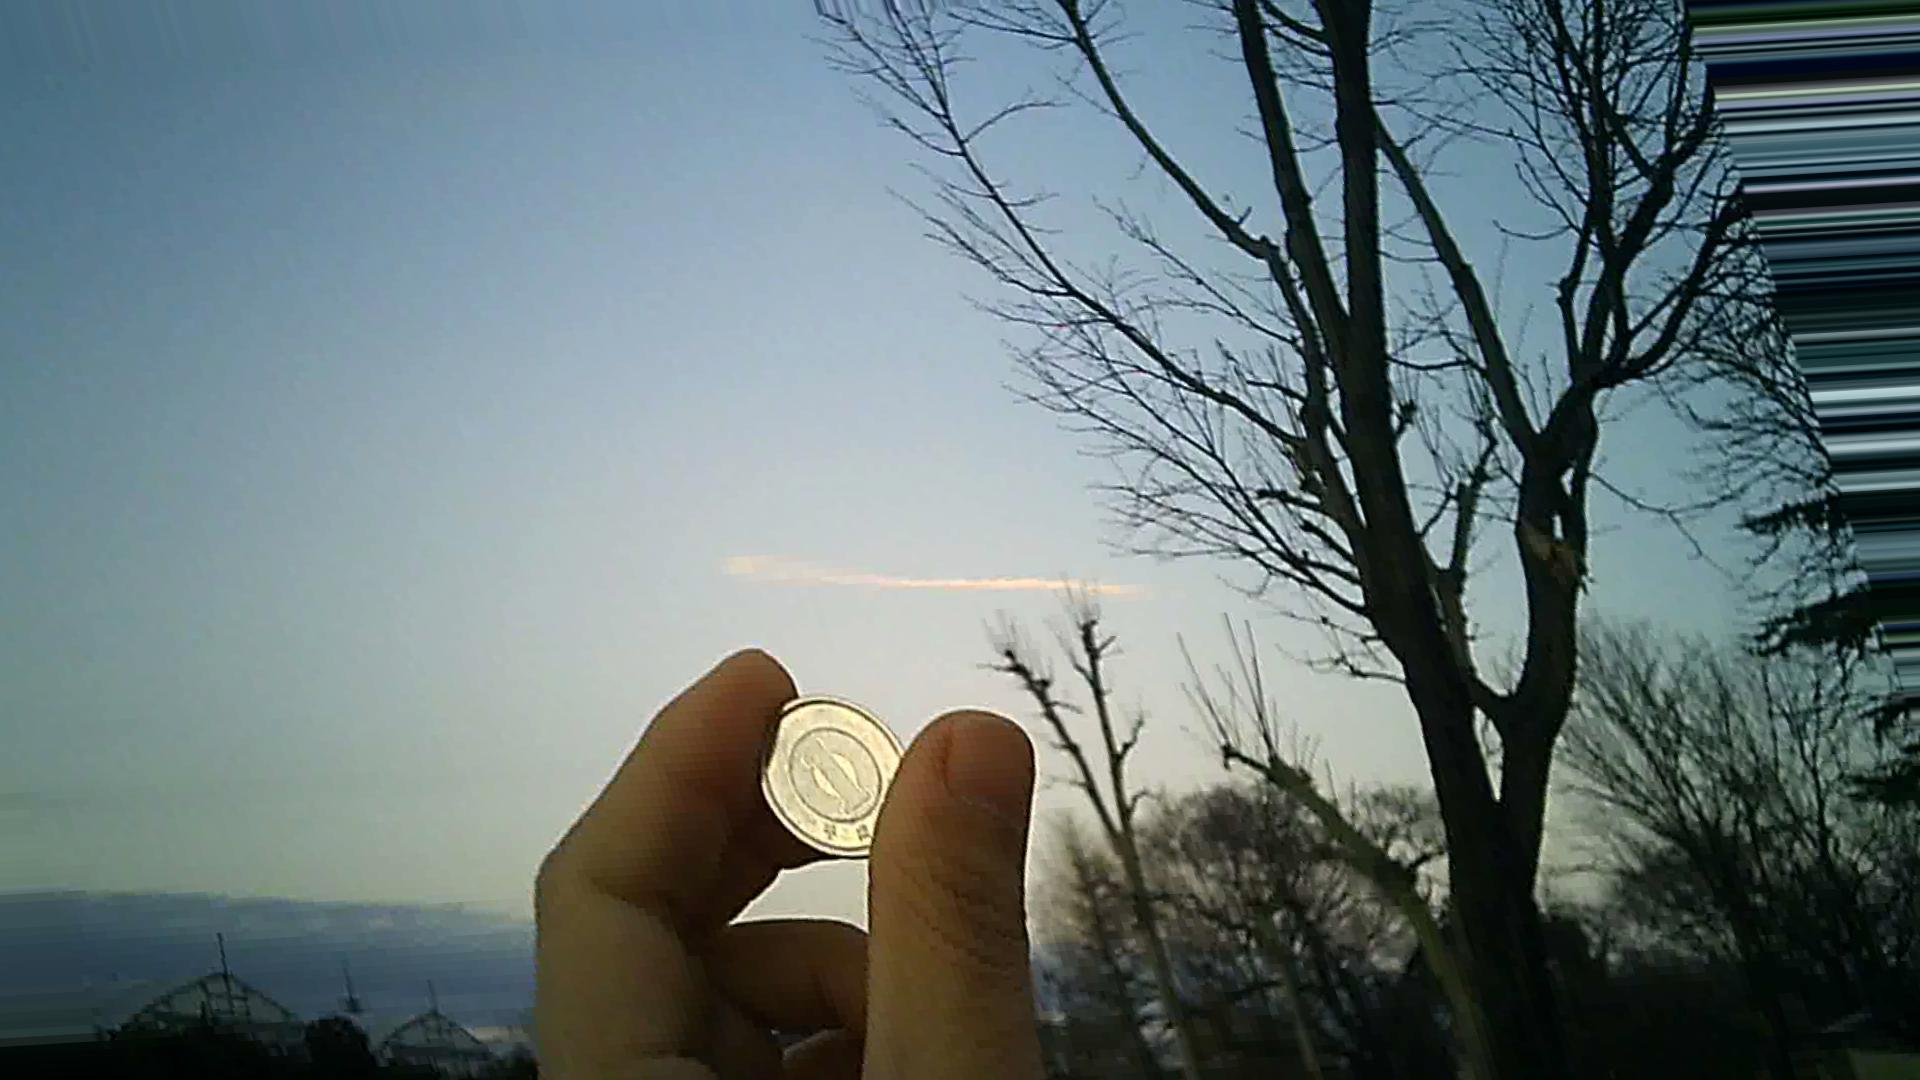1 Yen: (742, 669, 928, 852)
